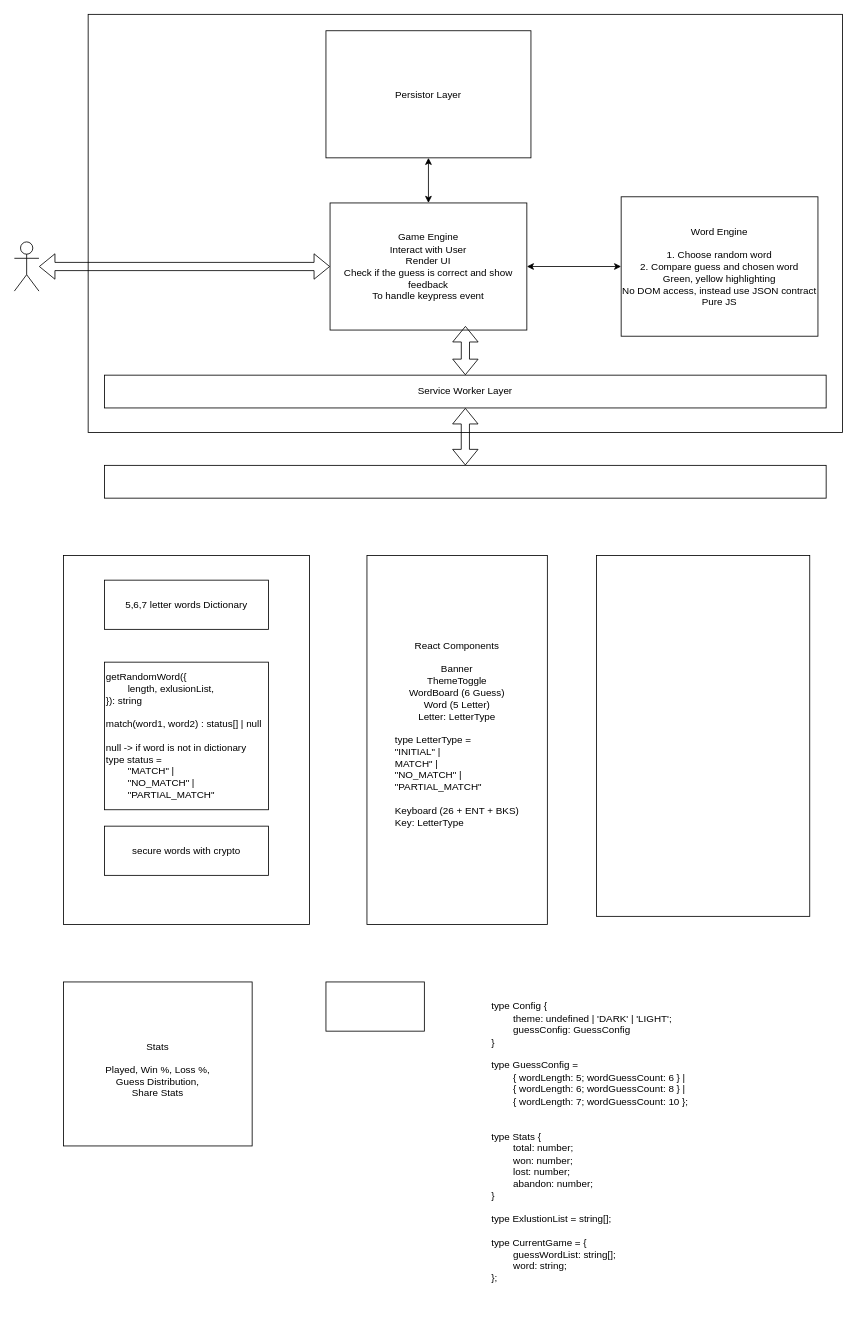
Image size: 857x1341. Some labels were removed from this diagram. Here are the shapes that lost their labels. From the top down, the centre of each, then its label:
At pixel 26 266: "Actor".
At pixel 465 481: "Network (app assets, images, sound, SW.js, WW.js)".
At pixel 703 735: "Configurations WordLength (5, 6, 7) WordGuessCount (6, 8, 10)".
At pixel 374 1006: "Theme (Device preferred) Options".
